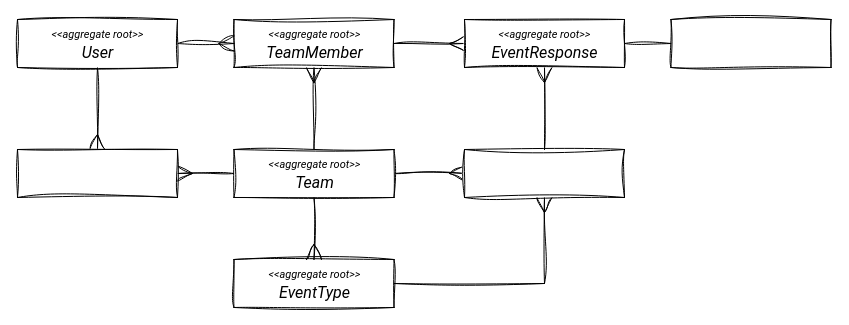
Image size: 849x325. Some labels were removed from this diagram. The centre of each missing label's shape, as x and y in pixels:
"<<aggregate root>> Event" goes at (544,173).
"<<aggregate root>> Invitation" goes at (97,173).
"<<value object>> EventReply" goes at (750,43).
